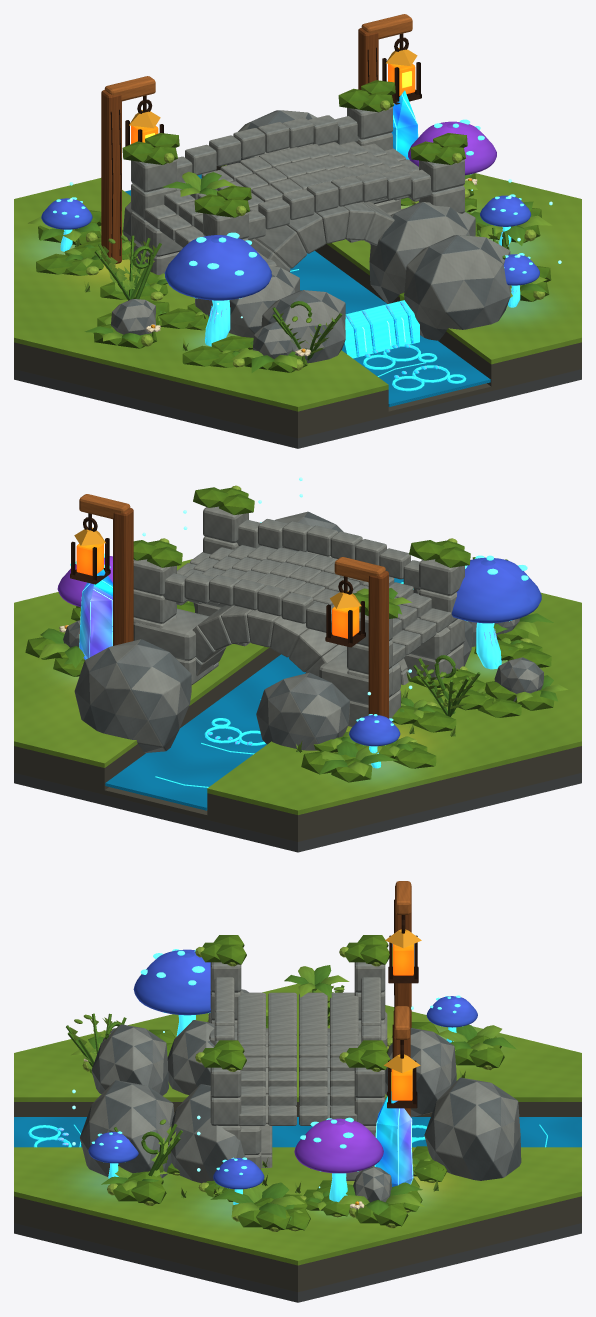
The model's file is hex_lantern_bridge.glb.
3 views of the same model, one above another, from view 1: azimuth 30°, elevation 25°; view 2: azimuth 150°, elevation 25°; view 3: azimuth 270°, elevation 25° (orthographic).
Parts seen in each view (by area): view 1: Meadow river bank.002, Meadow river bank.003, Angular mossy forest boulder.002, Cut river bank.002, Continuous river water.001, River hex stone foundation.001, Broad faceted mushroom cap.001, Angular mossy forest boulder.006, Cut river bank.003, Angular mossy forest boulder.001, River hex bed.001, Woodland lantern upright.001 (+42 smaller); view 2: Meadow river bank.002, Meadow river bank.003, Continuous river water.001, Angular mossy forest boulder.004, Cut river bank.002, River hex stone foundation.001, Angular mossy forest boulder.003, Broad faceted mushroom cap.001, Cut river bank.003, River hex bed.001, Woodland lantern upright.001, Woodland lantern upright.002 (+51 smaller); view 3: Meadow river bank.003, Cut river bank.003, Meadow river bank.002, Angular mossy forest boulder.004, River hex stone foundation.001, Angular mossy forest boulder.002, Continuous river water.001, Angular mossy forest boulder.006, Angular mossy forest boulder.001, Broad faceted mushroom cap.001, Broad faceted mushroom cap.003, Angular mossy forest boulder.003 (+28 smaller).
Boxes of the visible parts, x1,y1,x2,y2 form: Meadow river bank.002: (14,178,388,411); Meadow river bank.003: (221,165,581,364); Angular mossy forest boulder.002: (404,235,510,340); Cut river bank.002: (14,342,388,433); Continuous river water.001: (125,174,490,406); River hex stone foundation.001: (14,369,581,448); Broad faceted mushroom cap.001: (164,235,271,300); Angular mossy forest boulder.006: (369,202,475,303); Cut river bank.003: (216,166,581,386); Angular mossy forest boulder.001: (261,290,345,363); River hex bed.001: (14,364,581,438); Woodland lantern upright.001: (101,90,121,265); Meadow river bank.002: (207,592,581,814); Meadow river bank.003: (14,559,269,767); Continuous river water.001: (105,578,403,810); Angular mossy forest boulder.004: (74,639,191,752); Cut river bank.002: (207,746,581,837); River hex stone foundation.001: (14,773,581,852); Angular mossy forest boulder.003: (256,672,349,750); Broad faceted mushroom cap.001: (451,557,541,623); Cut river bank.003: (14,647,280,790); River hex bed.001: (14,768,581,841); Woodland lantern upright.001: (368,571,388,718); Woodland lantern upright.002: (113,508,133,645); Meadow river bank.003: (14,1147,581,1265); Cut river bank.003: (14,1196,581,1287); Meadow river bank.002: (14,983,581,1101); Angular mossy forest boulder.004: (424,1077,521,1180); River hex stone foundation.001: (14,1223,581,1302); Angular mossy forest boulder.002: (80,1080,174,1178); Continuous river water.001: (14,1117,581,1147); Angular mossy forest boulder.006: (170,1084,245,1183); Angular mossy forest boulder.001: (91,1024,168,1095); Broad faceted mushroom cap.001: (133,949,210,1015); Broad faceted mushroom cap.003: (294,1118,383,1173); Angular mossy forest boulder.003: (385,1028,456,1117).
Bounding box in the file's own units: 5.1 × 1.86 × 4.42.
49 materials, 37 textured.
